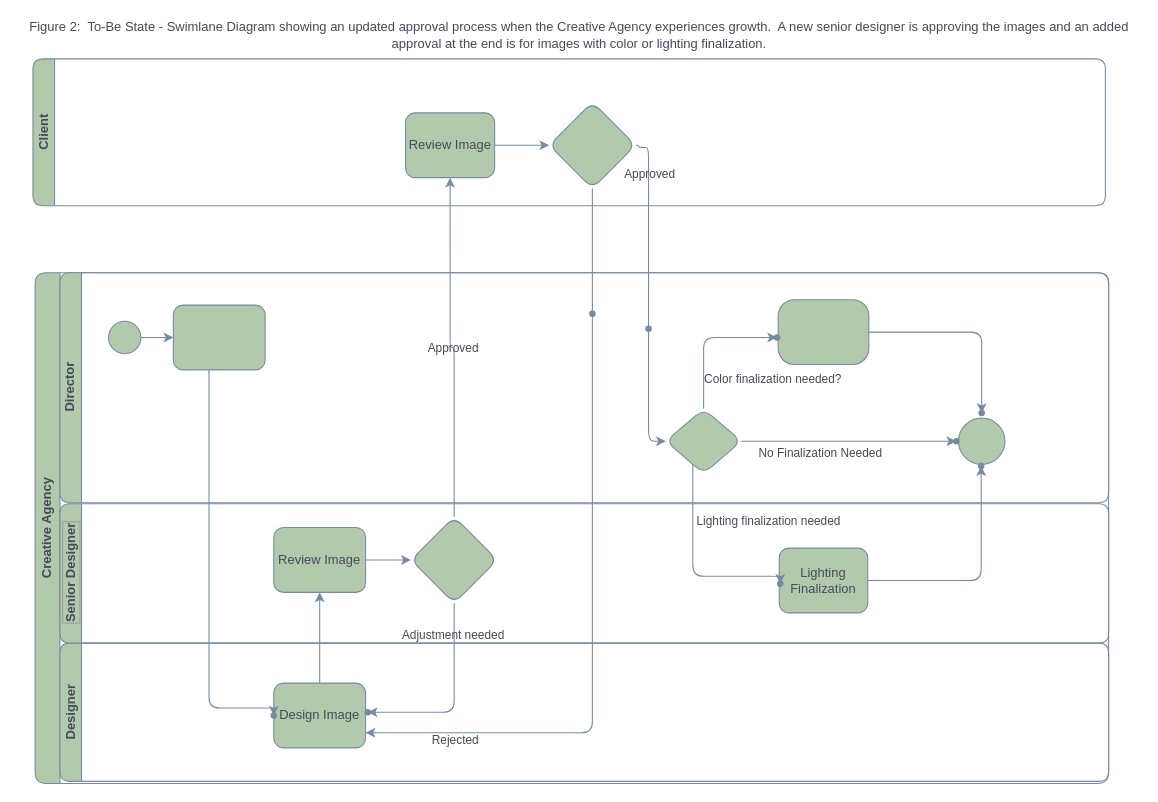
Some shapes in this 1158 by 802 pixel diagram are drawn without their labels. Each missing label, with the centre of its shape:
"Color Finalization" belongs at pixel 823 331.
"Final Image" belongs at pixel 981 440.
"Finalize Image" belongs at pixel 703 441.
"Receive client brief" belongs at pixel 124 337.
"Review Brief" belongs at pixel 218 337.
